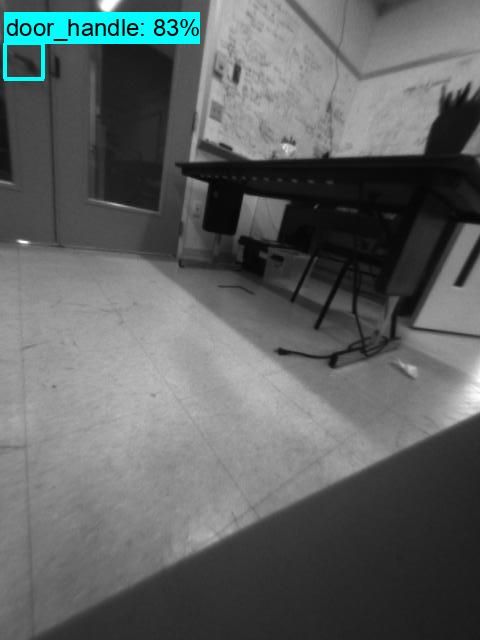door_handle: (4, 43, 44, 80)
